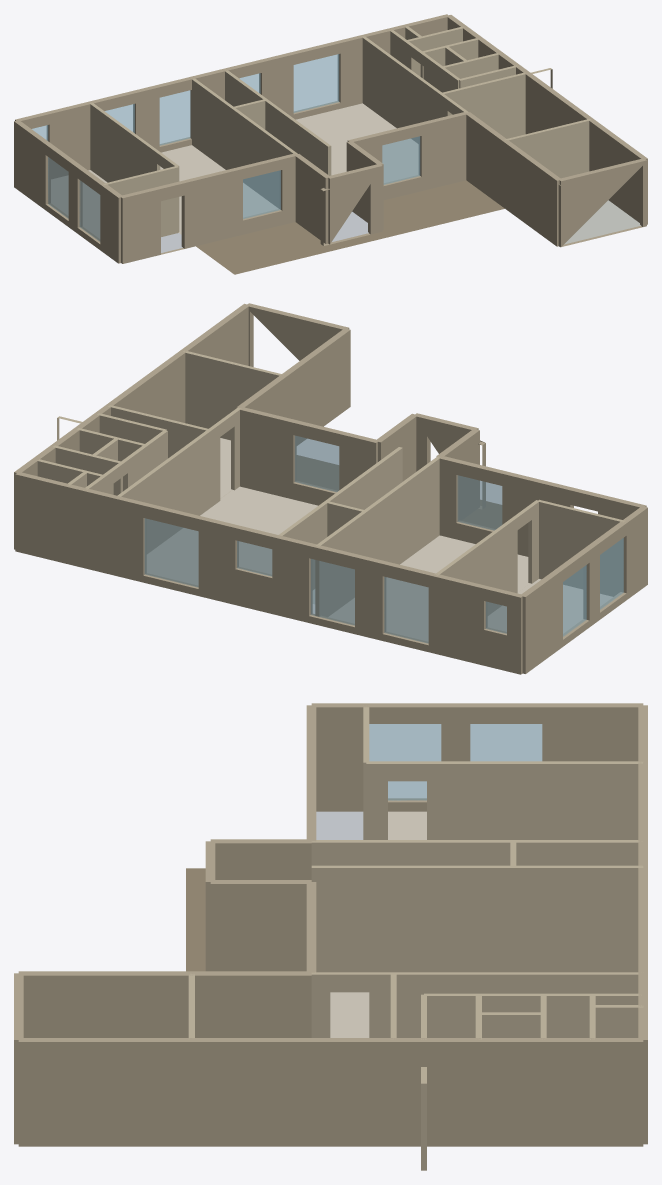
Rendered from fordham4684-mainfloor.glb.
The picture shows the model from 3 angles, top to bottom: view 1: azimuth 30°, elevation 25°; view 2: azimuth 150°, elevation 25°; view 3: azimuth 270°, elevation 25°; orthographic projection. The views are drawn at different scales.
Bounding box in the file's own units: 18.14 × 2.47 × 13.4.
